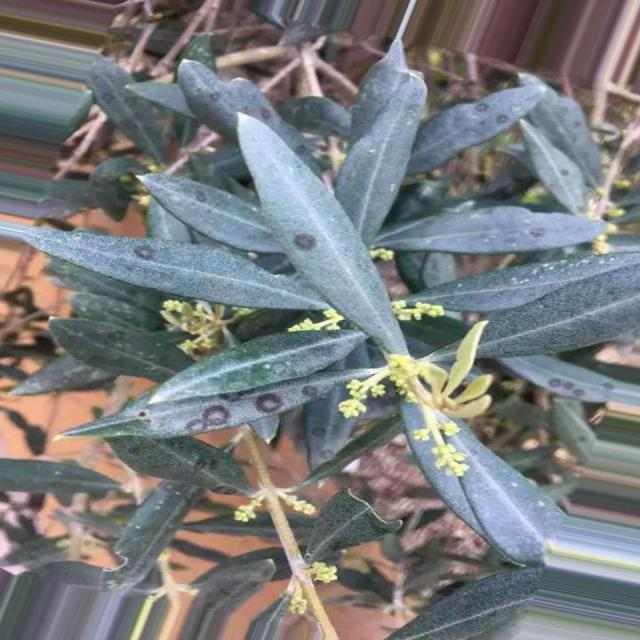OlivePeacockSpot: (238, 113, 406, 354), (22, 227, 329, 310), (60, 369, 368, 438), (406, 76, 548, 175), (376, 206, 604, 254), (108, 436, 250, 490)
